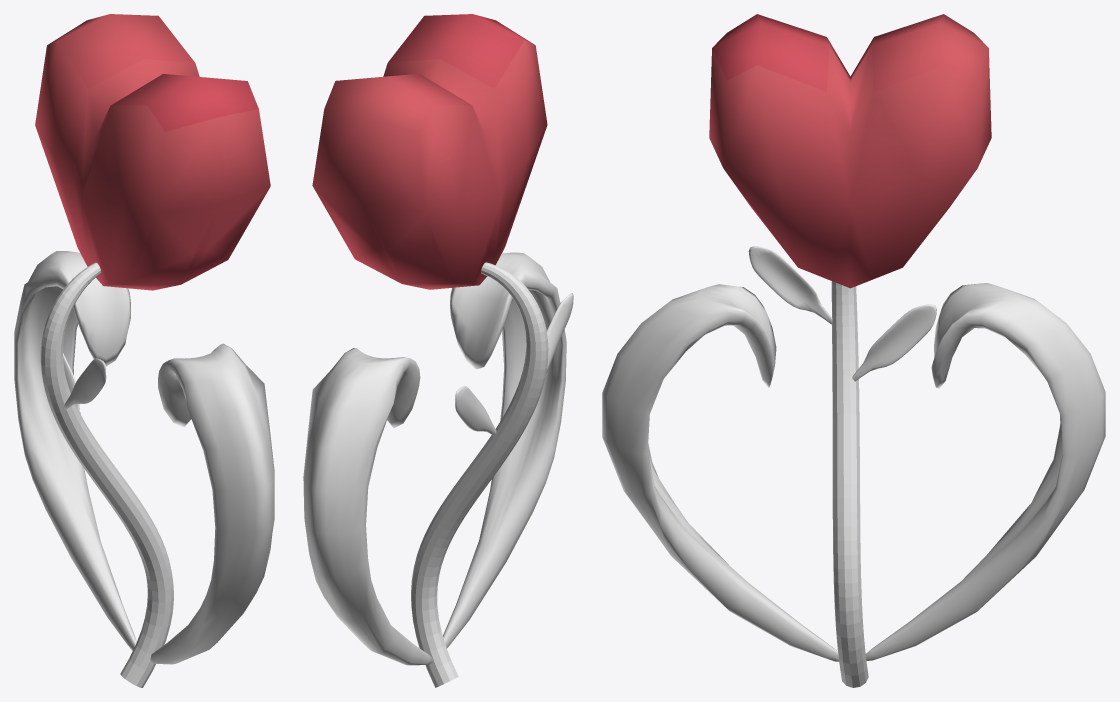
Rendered from HealthFlower.fbx.
3 renders of one model, left to right at view 1: azimuth 30°, elevation 25°; view 2: azimuth 150°, elevation 25°; view 3: azimuth 270°, elevation 25°, orthographic. The views are drawn at different scales.
Parts seen in each view (by area): view 1: Cube, Plane.002, Plane.003, NurbsPath, Plane; view 2: Cube, Plane.003, Plane.002, NurbsPath, Plane.001, Plane; view 3: Cube, Plane.003, Plane.002, NurbsPath, Plane.001, Plane.
Part boxes in pixels (bbox=[...]): Cube: bbox=[35, 14, 270, 290]; Plane.002: bbox=[150, 343, 274, 664]; Plane.003: bbox=[14, 251, 136, 650]; NurbsPath: bbox=[40, 262, 173, 687]; Plane: bbox=[64, 358, 106, 409]; Cube: bbox=[312, 14, 547, 289]; Plane.003: bbox=[303, 348, 432, 665]; Plane.002: bbox=[443, 252, 566, 648]; NurbsPath: bbox=[411, 262, 548, 687]; Plane.001: bbox=[455, 386, 496, 436]; Plane: bbox=[546, 293, 573, 372]; Cube: bbox=[709, 14, 991, 288]; Plane.003: bbox=[865, 283, 1105, 660]; Plane.002: bbox=[602, 284, 839, 661]; NurbsPath: bbox=[831, 281, 868, 687]; Plane.001: bbox=[852, 304, 936, 381]; Plane: bbox=[748, 246, 832, 324].
Size of the model in its own units: 273 by 900 by 613.
